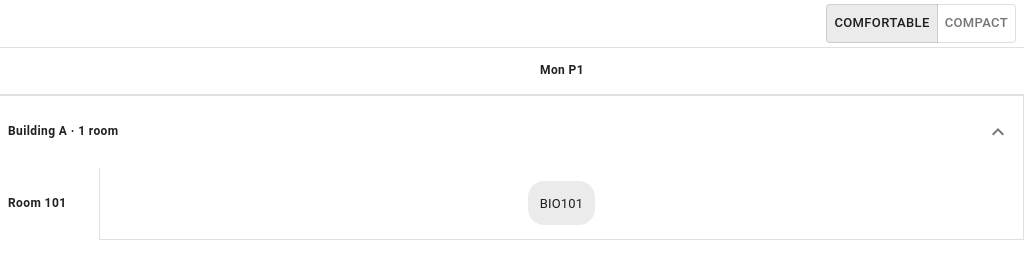
Scenario: TimetableGrid — building grouping › hides a building's room rows when its header is collapsed
Expected: the text "Room 101" is shown, [8,194,66,214]
Click the button named "collapse building a": [998, 132] box [981,115,1015,149]
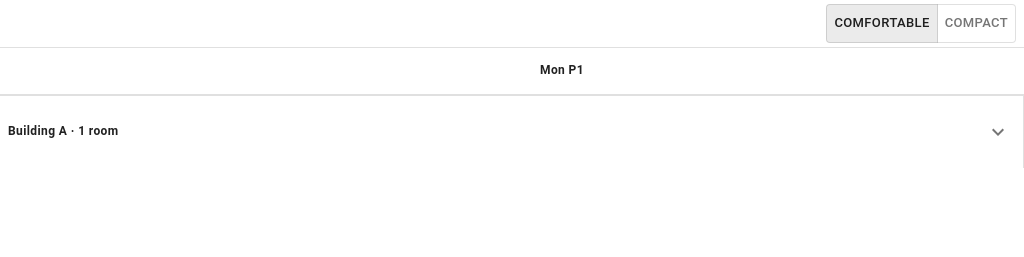
Expected: the text "Room 101" is gone
